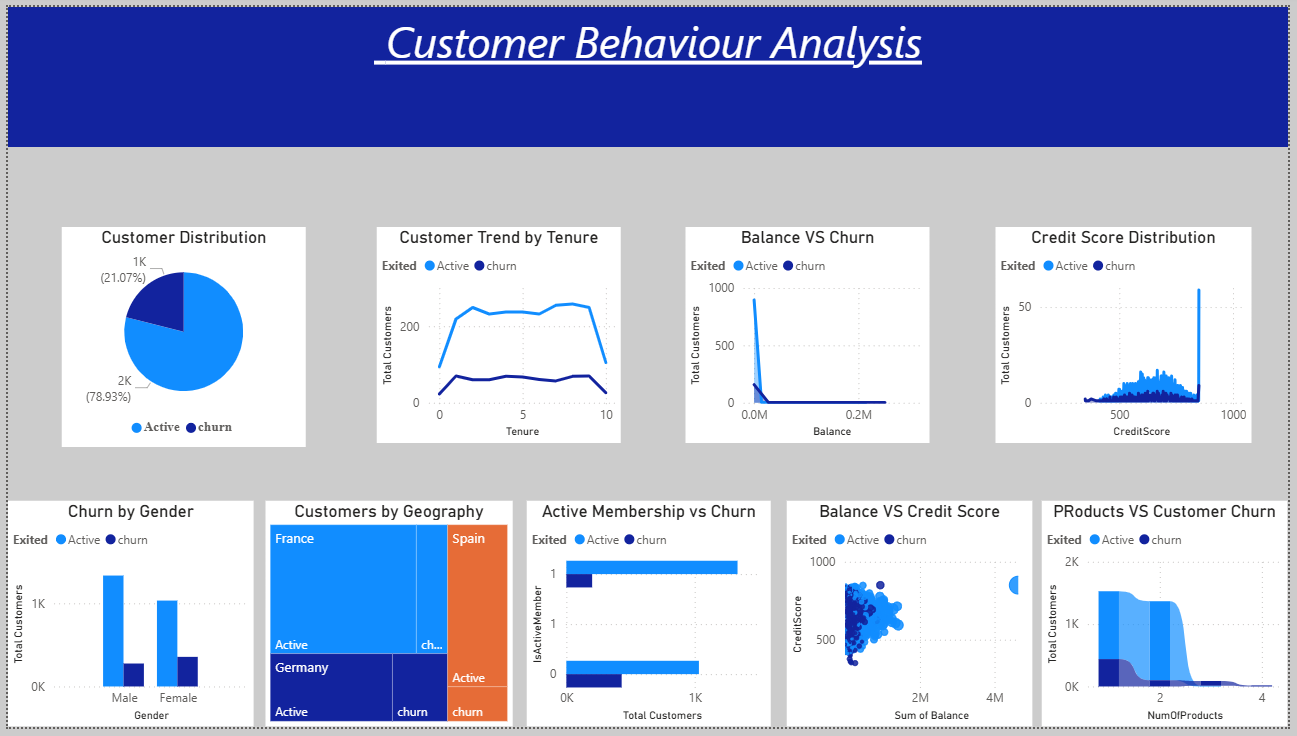

The dashboard page shown, as its layout file describes it:
{"tool":"powerbi","page":{"name":"Page 2","canvas":[1280,720],"ordinal":1},"visuals":[{"type":"areaChart","title":"Balance VS Churn","fields":{"Category":["Sheet1.Balance"],"Y":["Sheet1.Total Customers"],"Series":["Sheet1.Exited"]},"box":[677.1,220,244.3,215.7],"z":0},{"type":"clusteredColumnChart","title":"Churn by Gender","fields":{"Category":["Sheet1.Gender"],"Series":["Sheet1.Exited"],"Y":["Sheet1.Total Customers"]},"box":[0,494.3,245.7,225.7],"z":1000},{"type":"clusteredBarChart","title":"Active Membership vs Churn","fields":{"Category":["Sheet1.IsActiveMember"],"Y":["Sheet1.Total Customers"],"Series":["Sheet1.Exited"]},"box":[518.6,494.3,244.3,225.7],"z":2000},{"type":"areaChart","title":"Credit Score Distribution","fields":{"Category":["Sheet1.CreditScore"],"Y":["Sheet1.Total Customers"],"Series":["Sheet1.Exited"]},"box":[987.1,220,255.7,215.7],"z":3000},{"type":"scatterChart","title":"Balance VS Credit Score","fields":{"Size":["Sum(Sheet1.EstimatedSalary)"],"X":["Sum(Sheet1.Balance)"],"Y":["Sheet1.CreditScore"],"Series":["Sheet1.Exited"]},"box":[778.6,494.3,245.7,225.7],"z":4000},{"type":"treemap","title":"Customers by Geography","fields":{"Group":["Sheet1.Geography"],"Values":["Sheet1.Total Customers"],"Details":["Sheet1.Exited"]},"box":[257.1,494.3,247.1,225.7],"z":5000},{"type":"textbox","box":[0,0,1280,140],"z":6000},{"type":"pieChart","title":"Customer Distribution","fields":{"Y":["Sheet1.Total Customers"],"Category":["Sheet1.Exited"]},"box":[54.3,220,244.3,220],"z":7000},{"type":"lineChart","title":"Customer Trend by Tenure","fields":{"Category":["Sheet1.Tenure"],"Y":["Sheet1.Total Customers"],"Series":["Sheet1.Exited"]},"box":[368.6,220,244.3,215.7],"z":8000},{"type":"ribbonChart","title":"PRoducts VS Customer Churn","fields":{"Category":["Sheet1.NumOfProducts"],"Series":["Sheet1.Exited"],"Y":["Sheet1.Total Customers"]},"box":[1034.3,494.3,245.7,225.7],"z":9000}]}

Visuals, with their boxes in screenshot pixels (x1, y1, x2, y2), scaled from the page's 1280x720 canvas onto the 1297x736 screenshot:
"Balance VS Churn" areaChart: [686, 225, 934, 445]
"Churn by Gender" clusteredColumnChart: [0, 505, 249, 735]
"Active Membership vs Churn" clusteredBarChart: [525, 505, 773, 735]
"Credit Score Distribution" areaChart: [1000, 225, 1259, 445]
"Balance VS Credit Score" scatterChart: [789, 505, 1038, 735]
"Customers by Geography" treemap: [261, 505, 511, 735]
textbox: [0, 0, 1296, 143]
"Customer Distribution" pieChart: [55, 225, 303, 450]
"Customer Trend by Tenure" lineChart: [373, 225, 621, 445]
"PRoducts VS Customer Churn" ribbonChart: [1048, 505, 1296, 735]
